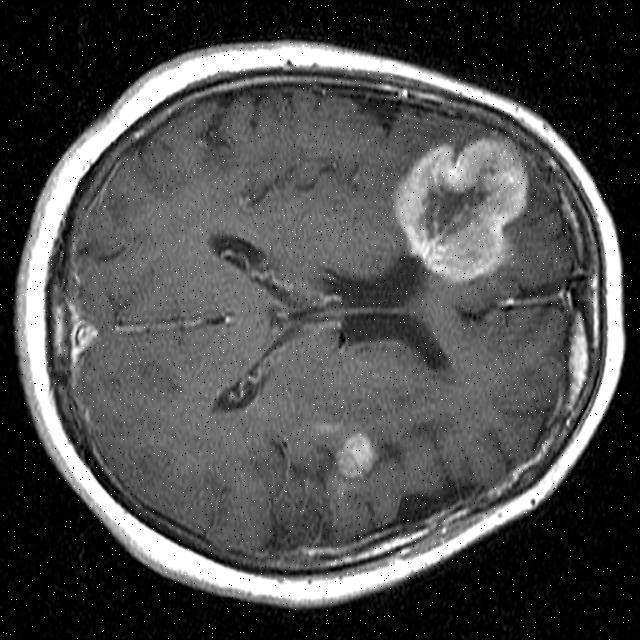Meningioma: (395, 138, 528, 283), (337, 432, 377, 479)
